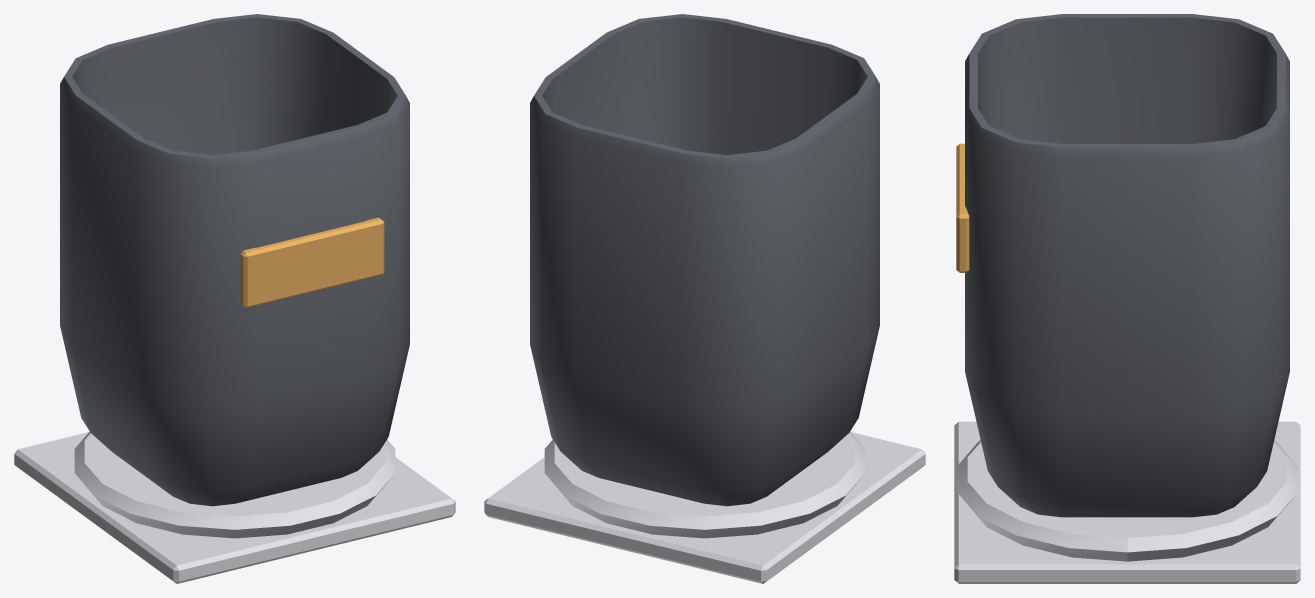
Rendered from L-office-waste-bin.glb.
The picture shows the model from 3 angles, left to right: view 1: azimuth 30°, elevation 25°; view 2: azimuth 150°, elevation 25°; view 3: azimuth 270°, elevation 25°; orthographic projection. The views are drawn at different scales.
Visible parts, largest first — view 1: office-waste-bin; view 2: office-waste-bin; view 3: office-waste-bin.
Boxes of the visible parts, x1,y1,x2,y2 form: office-waste-bin: (14,14,455,583); office-waste-bin: (484,14,925,583); office-waste-bin: (954,14,1300,583).
Bounding box in the file's own units: 0.32 × 0.44 × 0.32.
